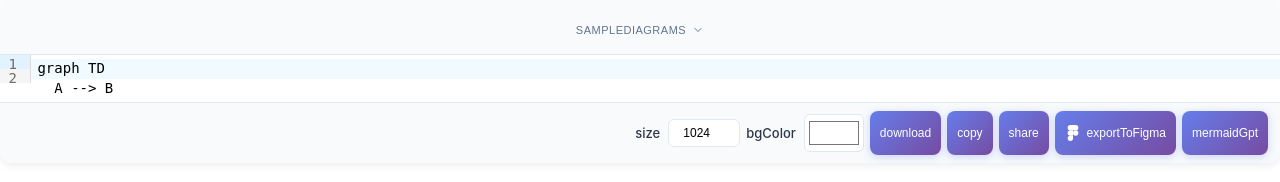
it: Editor › shows ChatGPT and Claude options when AI Help is opened
Click the button "mermaidGpt" at {"x": 1225, "y": 133}, box [1182, 111, 1268, 155]
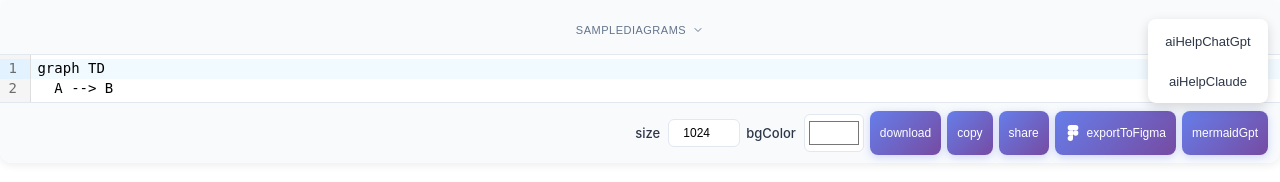
Now the button "aiHelpChatGpt" is shown, box [1152, 23, 1264, 59]
Now the button "aiHelpClaude" is shown, box [1152, 63, 1264, 99]
